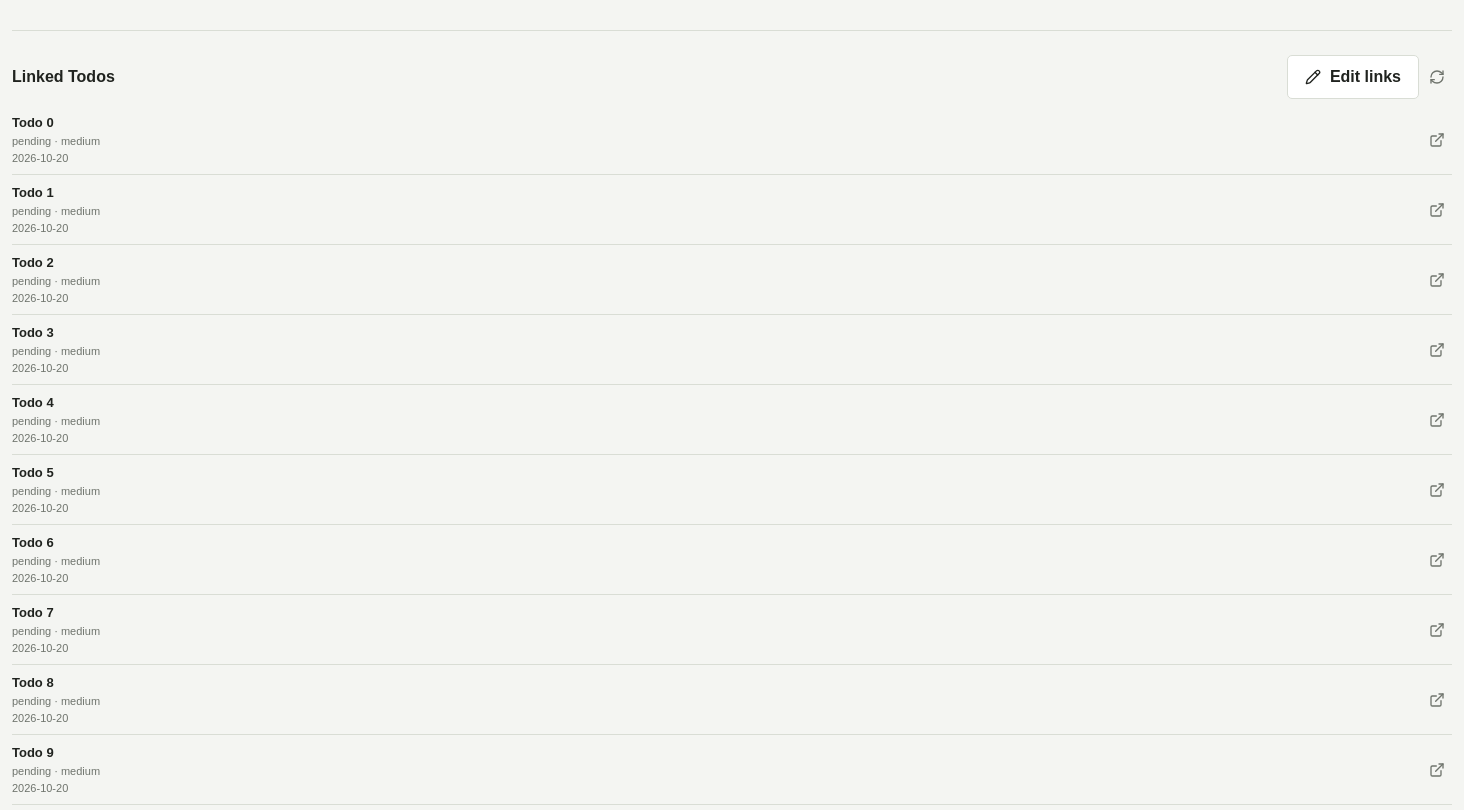
draft Cancel and 50-row bound never silently drop saved selections
Click the button "Edit links" at (1353, 77), box [1287,55,1419,99]
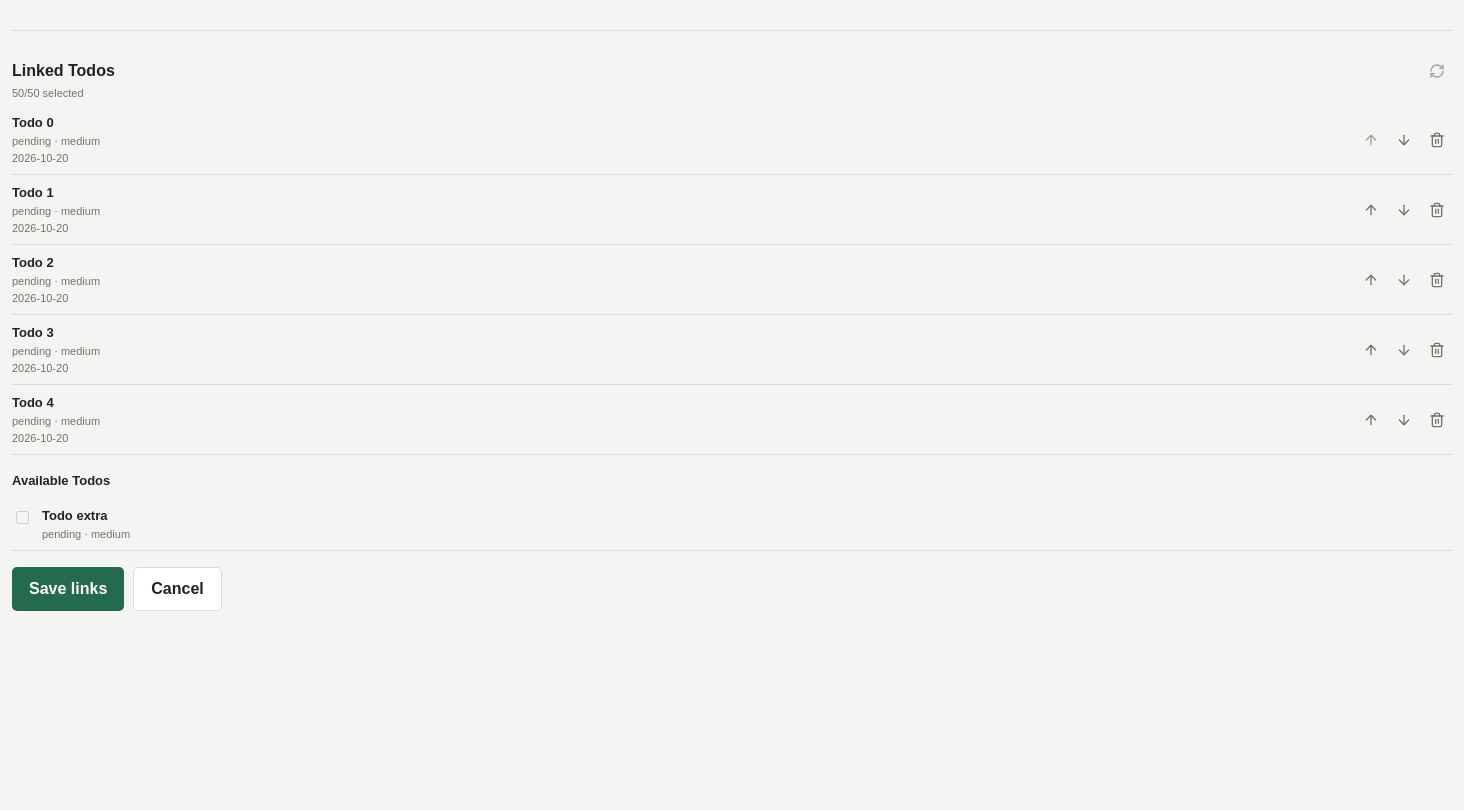
Expected: the checkbox named "Link Todo extra" is disabled, [16,511,29,524]
Click the button named "Remove link 1" at (1437, 140), box [1422,124,1452,156]
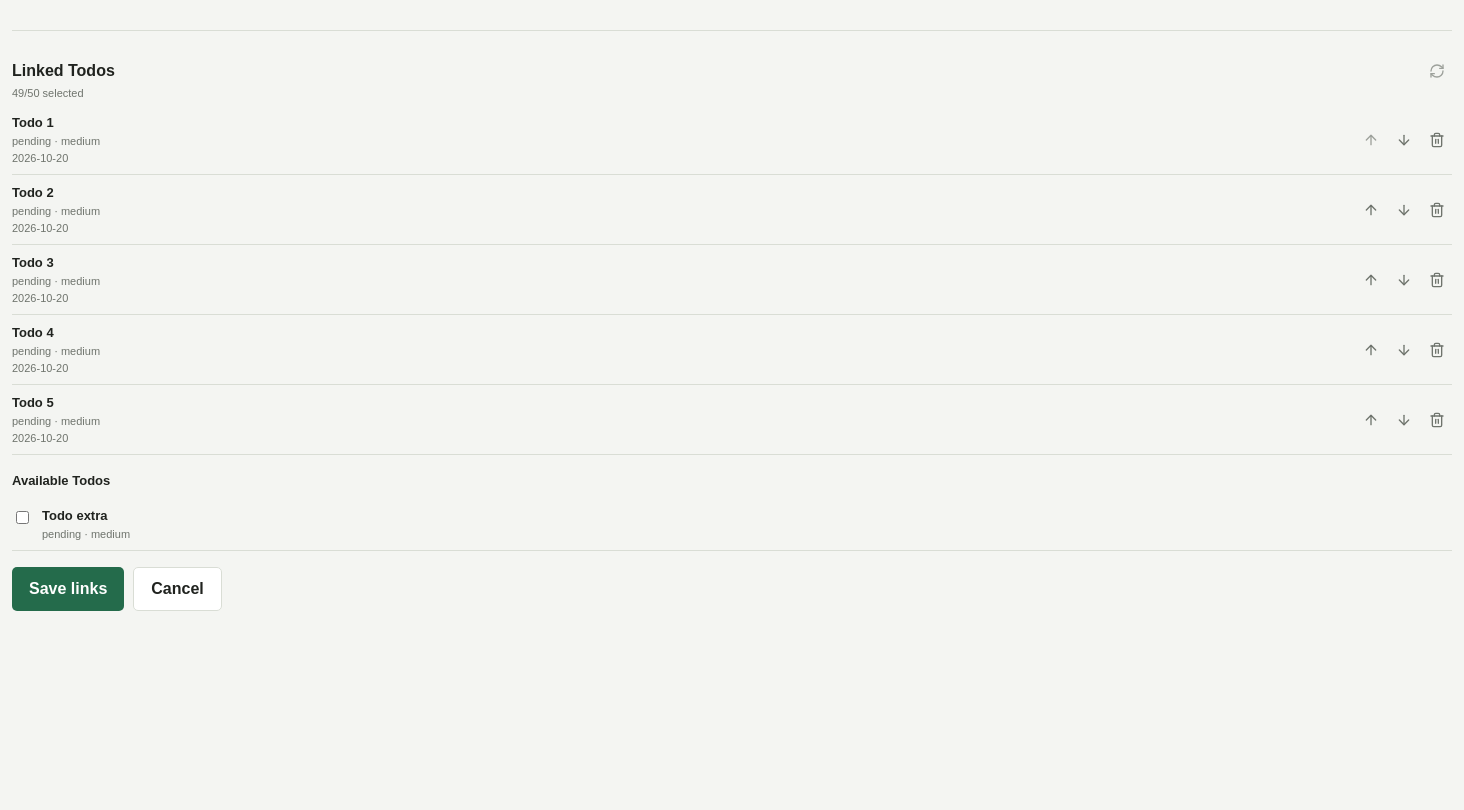
Expected: the checkbox named "Link Todo extra" is enabled, [16,511,29,524]
Click the button "Cancel" at (178, 589), box [133,567,222,611]
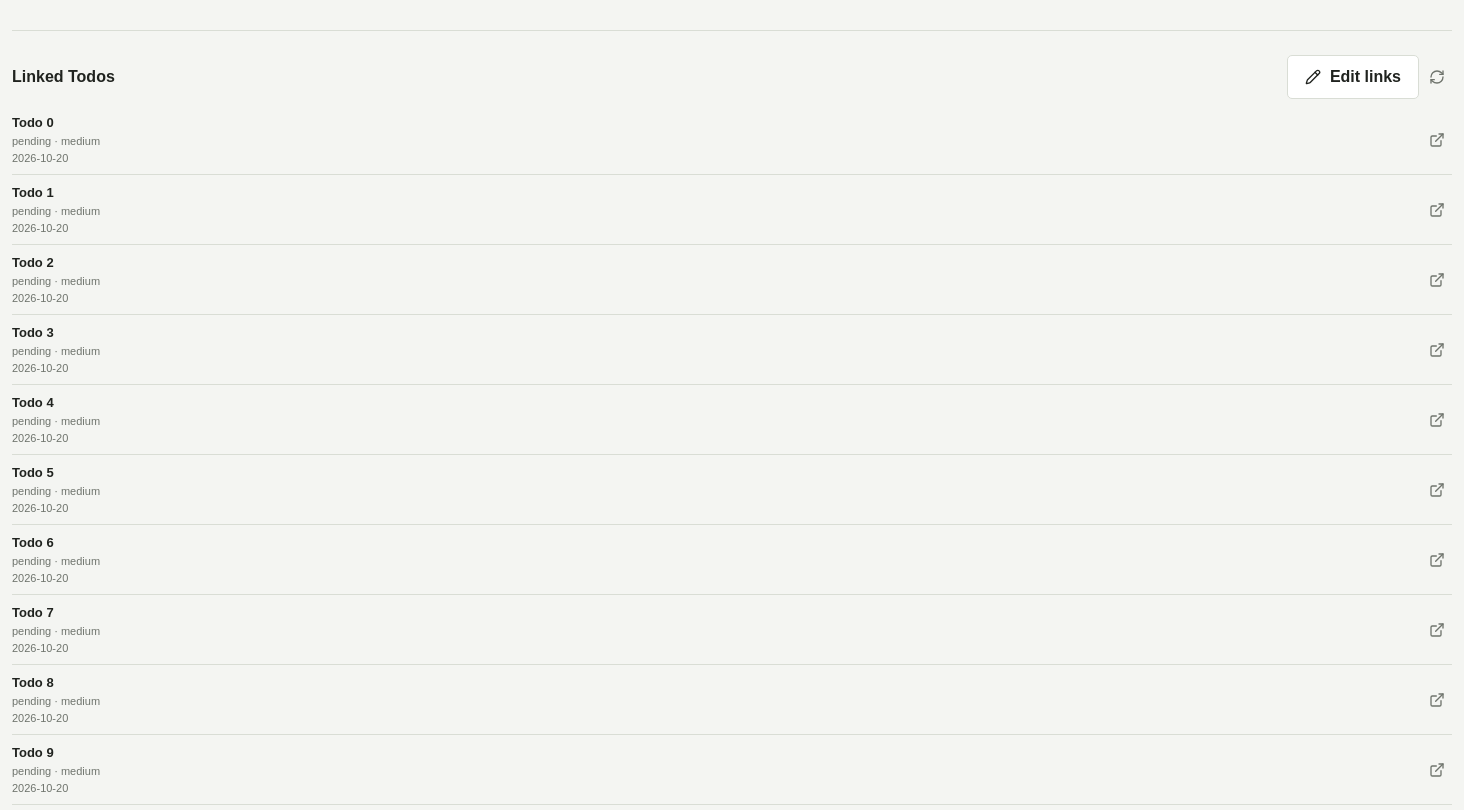
Expected: the number of list items is 50
